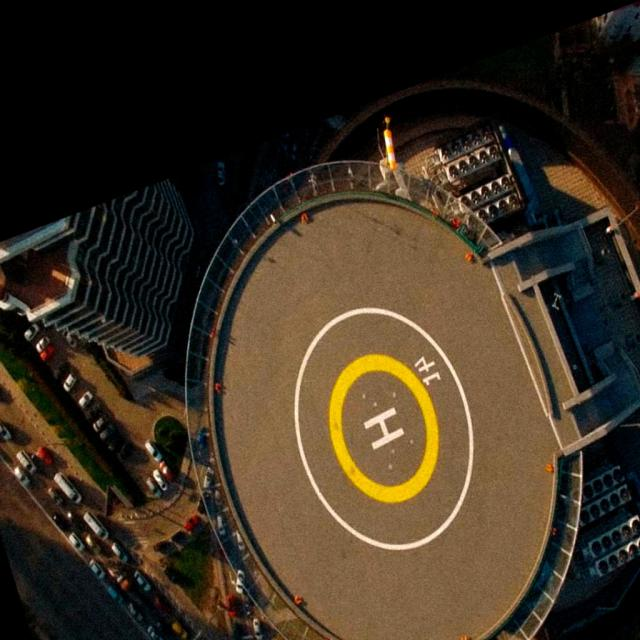helipad: (325, 347, 444, 505)
